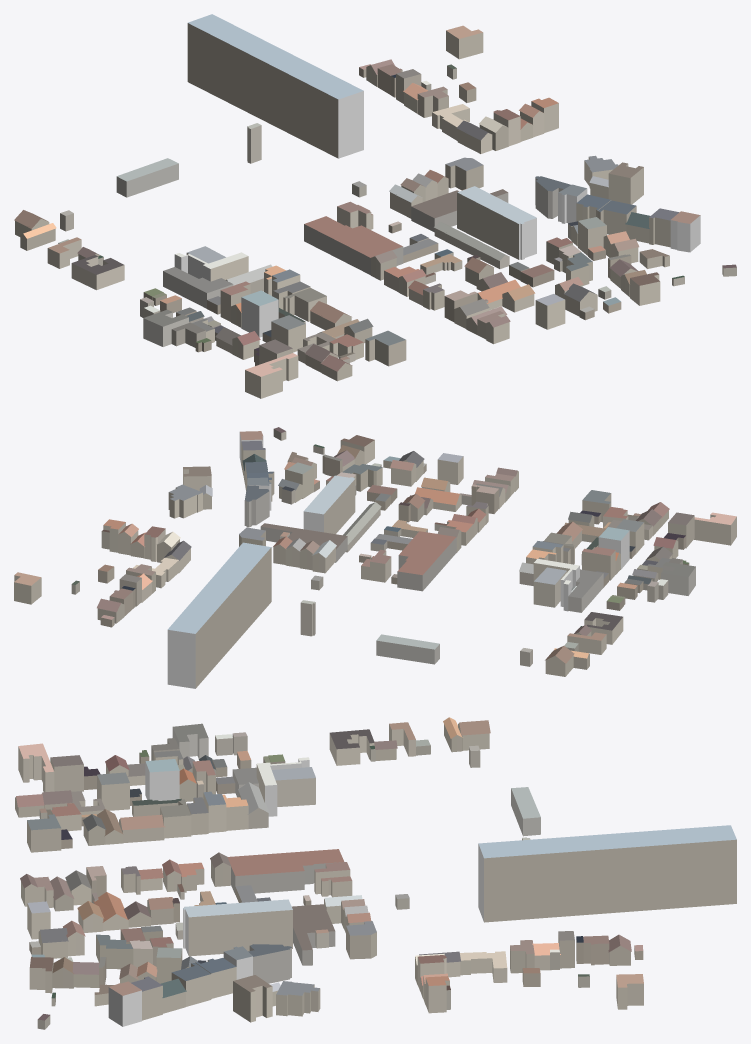
3 renders of one model, top to bottom at view 1: azimuth 30°, elevation 25°; view 2: azimuth 150°, elevation 25°; view 3: azimuth 270°, elevation 25°, orthographic. The views are drawn at different scales.
Visible parts, largest first — view 1: tuile; view 2: tuile; view 3: tuile.
Part boxes in pixels (<box>): tuile: <box>14,14,736,398</box>; tuile: <box>14,427,736,688</box>; tuile: <box>15,717,736,1029</box>.
Size of the model in its own units: 267 by 37.33 by 286.
